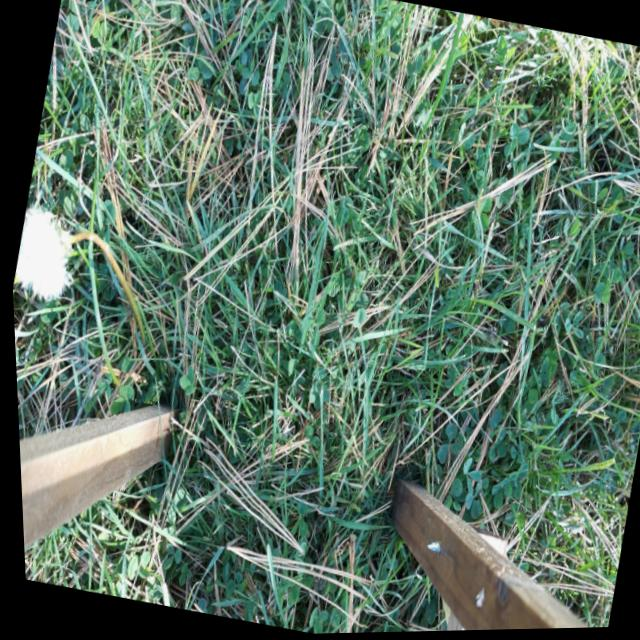base: (122, 322, 154, 369)
